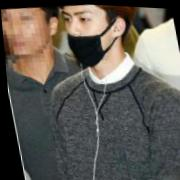NONE: (1, 5, 53, 61)
WRONG: (60, 3, 121, 72)
